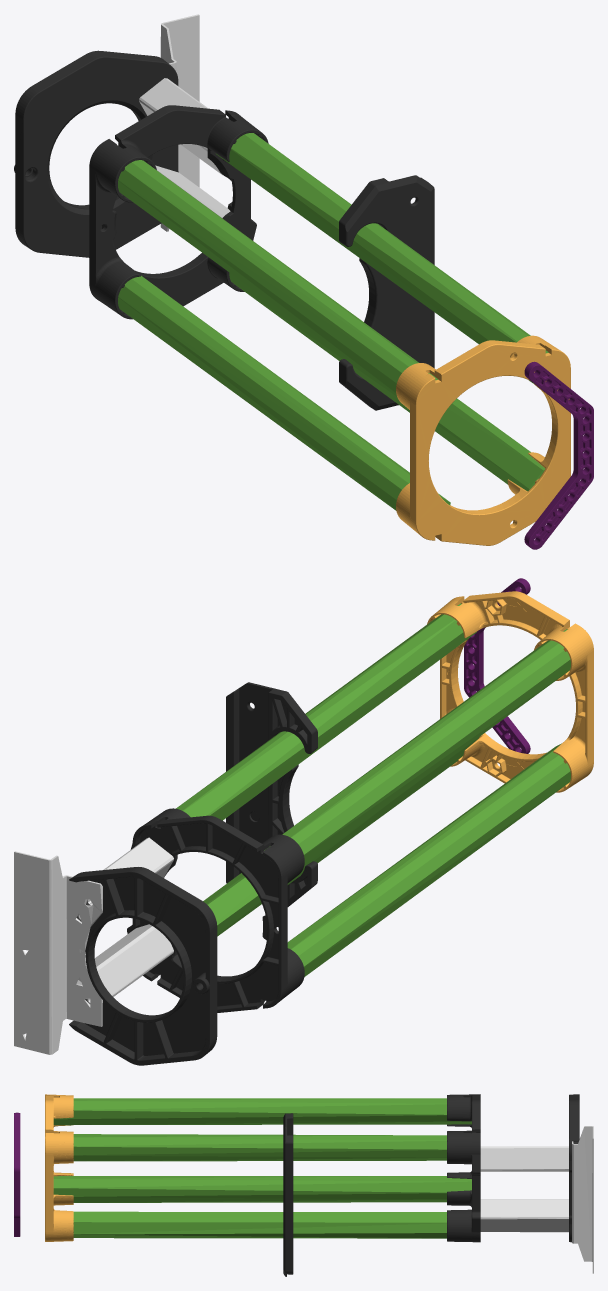
Rendered from flower-audience.obj.
3 renders of one model, top to bottom at view 1: azimuth 30°, elevation 25°; view 2: azimuth 150°, elevation 25°; view 3: azimuth 270°, elevation 25°, orthographic. The views are drawn at different scales.
Visible parts, largest first — view 1: flower-audience-5FA73D, flower-audience-303030, flower-audience-FFBA52, flower-audience-E6E6E6, flower-audience-641C65; view 2: flower-audience-5FA73D, flower-audience-303030, flower-audience-E6E6E6, flower-audience-FFBA52, flower-audience-641C65; view 3: flower-audience-5FA73D, flower-audience-E6E6E6, flower-audience-303030, flower-audience-FFBA52, flower-audience-641C65.
Boxes of the visible parts, x1,y1,x2,y2 form: flower-audience-5FA73D: (118,133,548,510); flower-audience-303030: (14,50,434,410); flower-audience-FFBA52: (396,335,570,545); flower-audience-E6E6E6: (139,14,230,231); flower-audience-641C65: (524,361,593,549); flower-audience-5FA73D: (176,603,570,976); flower-audience-303030: (69,682,317,1065); flower-audience-E6E6E6: (14,837,173,1054); flower-audience-FFBA52: (427,591,593,792); flower-audience-641C65: (464,578,530,753); flower-audience-5FA73D: (53,1098,471,1238); flower-audience-E6E6E6: (480,1126,593,1273); flower-audience-303030: (283,1094,579,1276); flower-audience-FFBA52: (45,1094,73,1241); flower-audience-641C65: (14,1112,20,1236).
Size of the model in its own units: 6.16 by 6.67 by 23.3.
